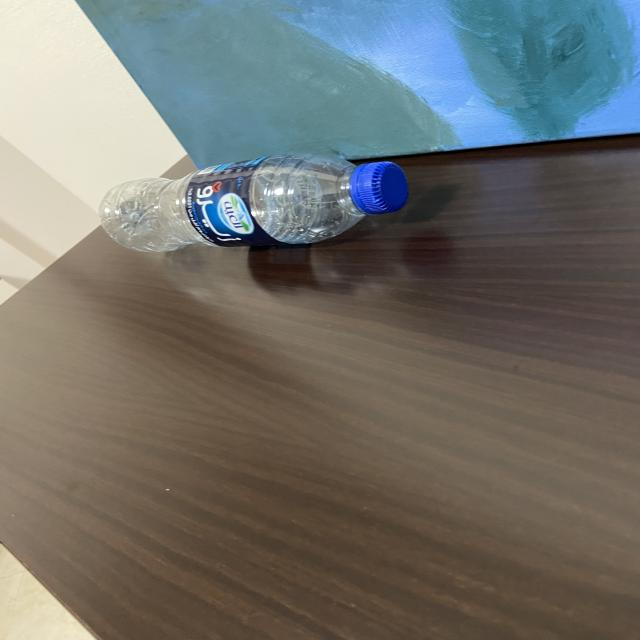bottle: (92, 147, 415, 255)
